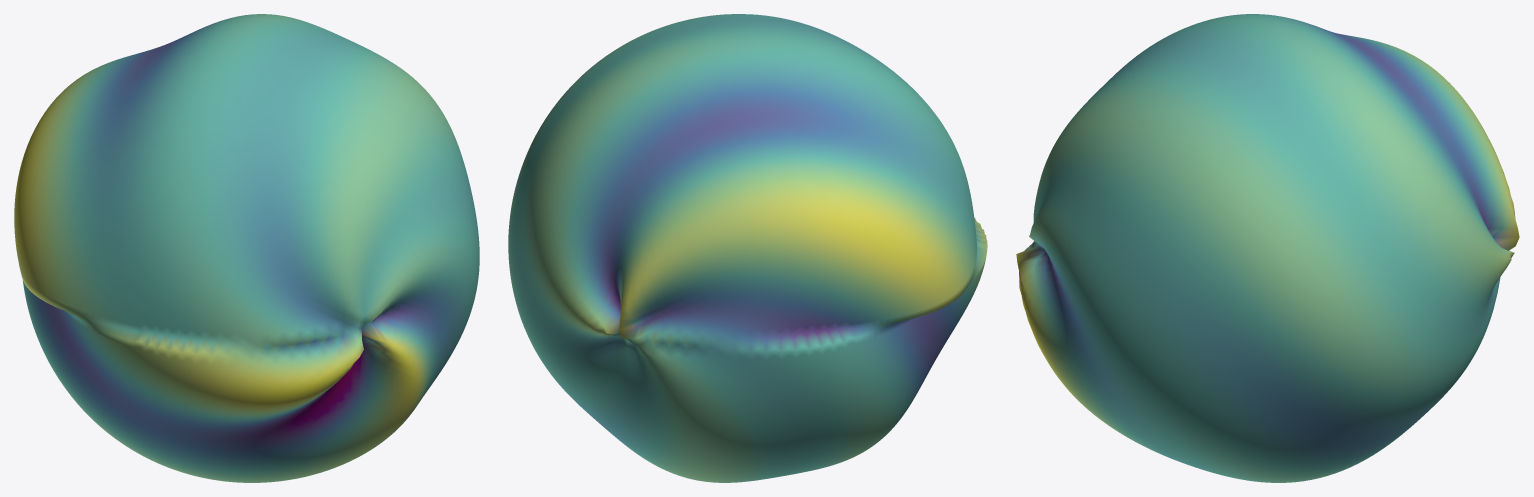
Rendered from sphere_frame_0021.glb.
The picture shows the model from 3 angles, left to right: view 1: azimuth 30°, elevation 25°; view 2: azimuth 150°, elevation 25°; view 3: azimuth 270°, elevation 25°; orthographic projection.
Parts seen in each view (by area): view 1: world; view 2: world; view 3: world.
Boxes of the visible parts, box(x1,y1,x2,y2) form: world: box(14, 14, 479, 482); world: box(508, 14, 987, 482); world: box(1016, 14, 1519, 482).
Bounding box in the file's own units: 2.21 × 2.15 × 2.31.
